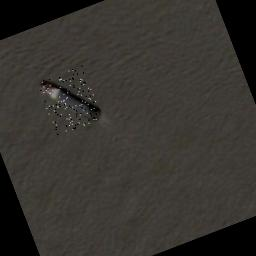boat: (37, 65, 103, 136)
